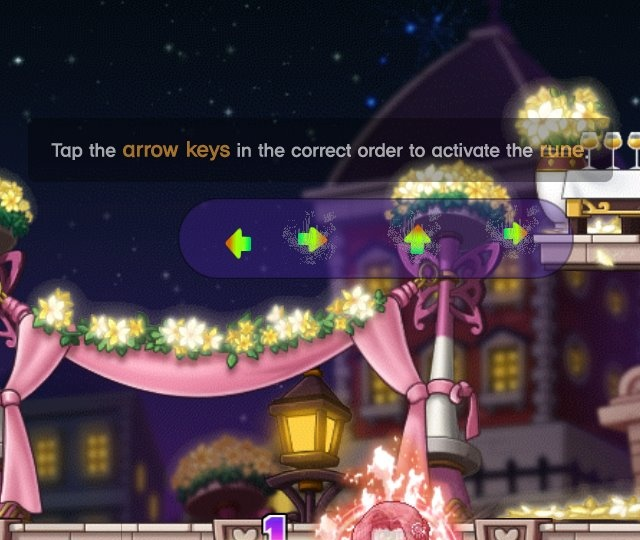left: (219, 225, 259, 263)
right: (290, 221, 333, 260), (493, 217, 534, 251)
up: (400, 219, 441, 261)
